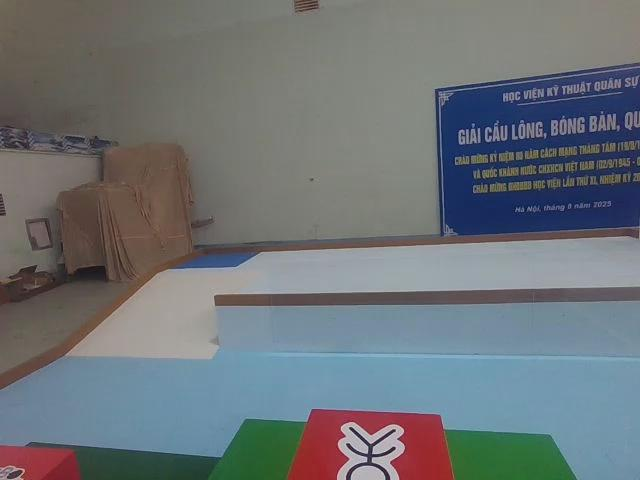R2 Real: (291, 405, 447, 480)
